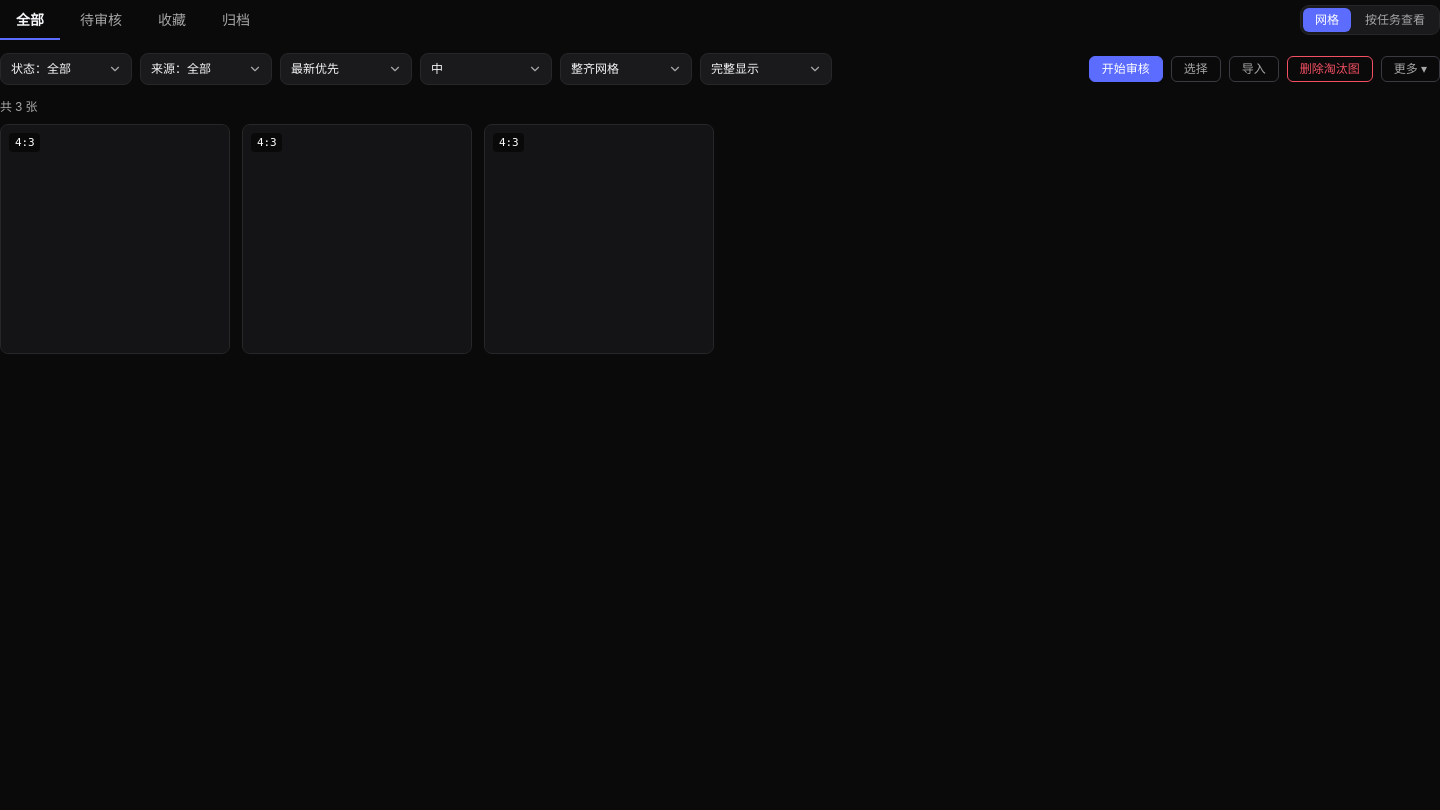
Test: Gallery 单击抽屉 / 双击 Lightbox 区分 › 单击卡片（延迟后）打开 Detail Drawer，不打开 Lightbox
Expected: the text "共 3 张" is shown, [0, 99, 37, 114]
Click the element with class "gal-card" showing "4:3".
click(357, 239)  # box [242, 124, 472, 354]
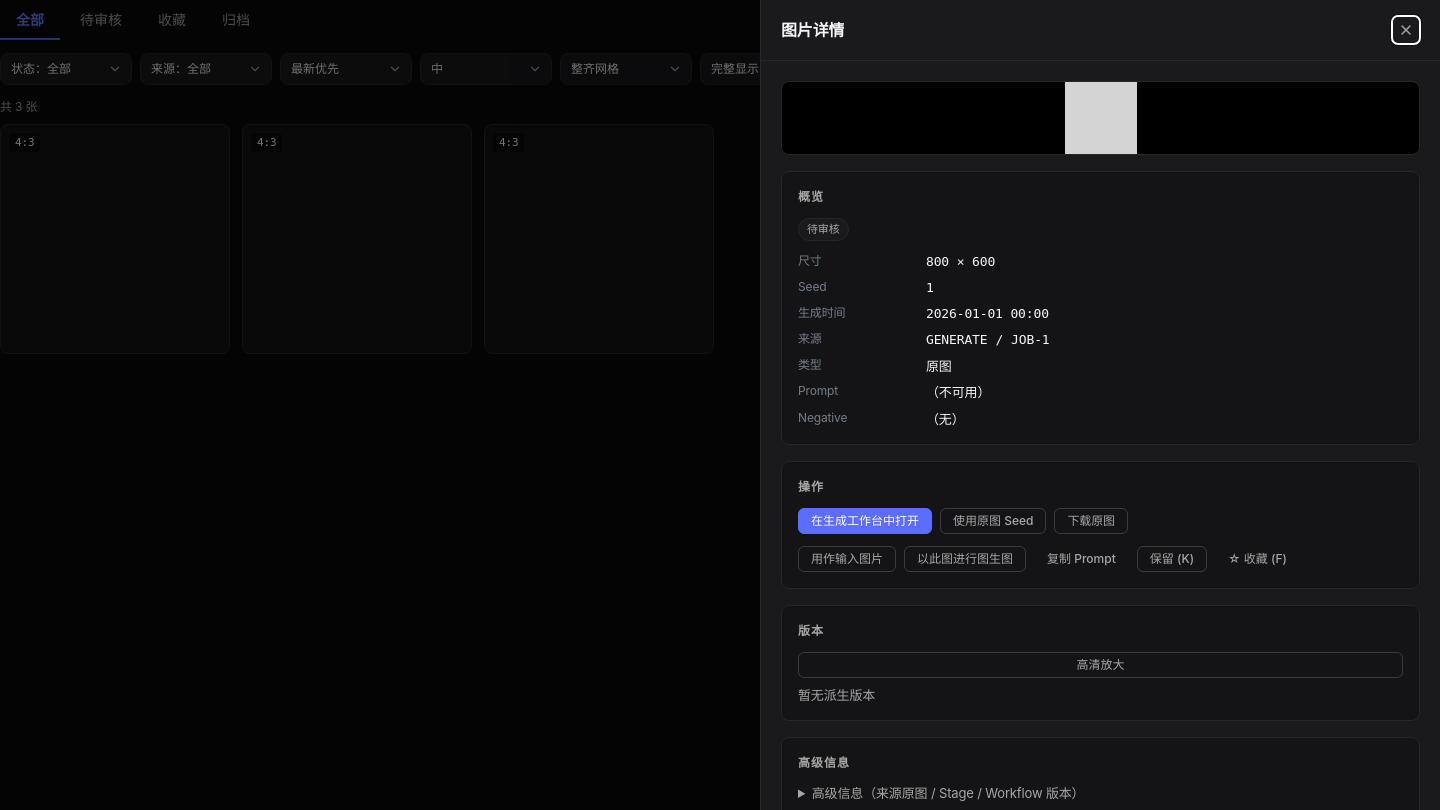
Now the heading "图片详情" is shown, box [781, 19, 844, 41]
